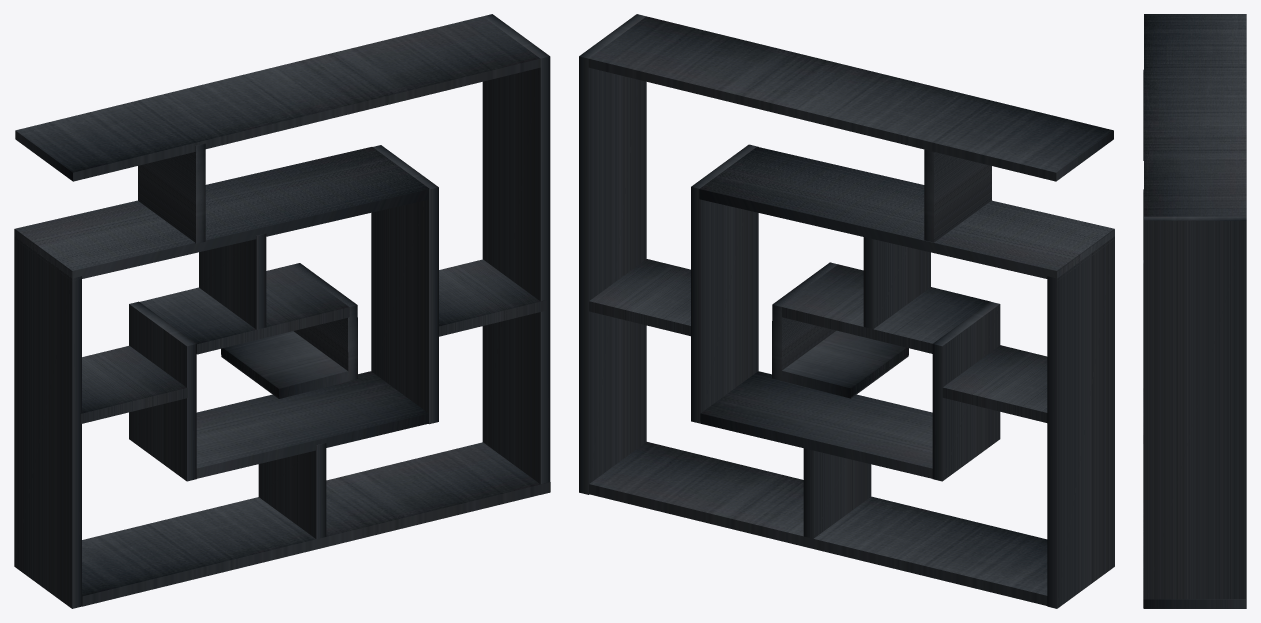
File: Shelf_3.glb
3 views of the same model, side by side, from view 1: azimuth 30°, elevation 25°; view 2: azimuth 150°, elevation 25°; view 3: azimuth 270°, elevation 25° (orthographic). The views are drawn at different scales.
Visible parts, largest first — view 1: node_id44_Material_47_0, node_id44_Material_46_0, node_id44_Material_45_0, node_id44_Material_48_0, node_id44_Material_49_0, node_id44_Material_55_0, node_id44_Material_57_0, node_id44_Material_52_0, node_id44_Material_51_0, node_id44_Material_54_0, node_id44_Material_58_0, node_id44_Material_60_0 (+4 smaller); view 2: node_id44_Material_47_0, node_id44_Material_46_0, node_id44_Material_45_0, node_id44_Material_48_0, node_id44_Material_49_0, node_id44_Material_55_0, node_id44_Material_57_0, node_id44_Material_52_0, node_id44_Material_51_0, node_id44_Material_54_0, node_id44_Material_58_0, node_id44_Material_60_0 (+4 smaller); view 3: node_id44_Material_45_0, node_id44_Material_47_0, node_id44_Material_46_0.
Boxes of the visible parts, bbox=[...] form: node_id44_Material_47_0: bbox=[15, 16, 540, 181]; node_id44_Material_46_0: bbox=[82, 442, 550, 606]; node_id44_Material_45_0: bbox=[482, 14, 550, 492]; node_id44_Material_48_0: bbox=[14, 236, 81, 608]; node_id44_Material_49_0: bbox=[14, 147, 429, 280]; node_id44_Material_55_0: bbox=[371, 145, 438, 424]; node_id44_Material_57_0: bbox=[196, 371, 428, 478]; node_id44_Material_52_0: bbox=[140, 265, 349, 354]; node_id44_Material_51_0: bbox=[129, 301, 196, 481]; node_id44_Material_54_0: bbox=[80, 345, 187, 424]; node_id44_Material_58_0: bbox=[439, 259, 546, 336]; node_id44_Material_60_0: bbox=[221, 331, 349, 398]; node_id44_Material_47_0: bbox=[588, 16, 1113, 181]; node_id44_Material_46_0: bbox=[589, 442, 1047, 605]; node_id44_Material_45_0: bbox=[579, 14, 646, 494]; node_id44_Material_48_0: bbox=[1047, 236, 1114, 608]; node_id44_Material_49_0: bbox=[699, 146, 1114, 279]; node_id44_Material_55_0: bbox=[691, 144, 758, 423]; node_id44_Material_57_0: bbox=[700, 371, 932, 478]; node_id44_Material_52_0: bbox=[781, 264, 990, 353]; node_id44_Material_51_0: bbox=[932, 301, 1000, 481]; node_id44_Material_54_0: bbox=[942, 345, 1047, 422]; node_id44_Material_58_0: bbox=[589, 259, 690, 336]; node_id44_Material_60_0: bbox=[780, 330, 908, 398]; node_id44_Material_45_0: bbox=[1144, 216, 1246, 608]; node_id44_Material_47_0: bbox=[1144, 14, 1246, 216]; node_id44_Material_46_0: bbox=[1143, 502, 1245, 608].
Size of the model in its own units: 0.00512 by 0.00446 by 0.00108.
16 materials, 16 textured.
